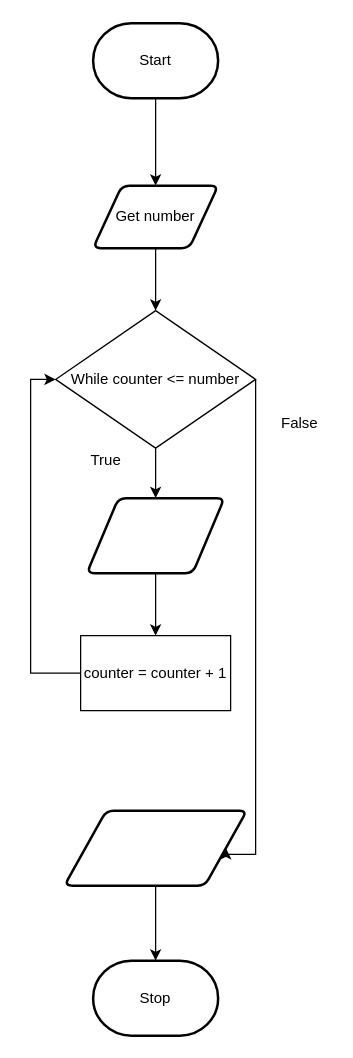
The diagram is 353 pixels wide and 1058 high, and some of its shapes have lost their labels. The box of each missing label's shape, as (x1, y1, x2, y2) in pixels:
print("The sum is {0}").format(sum): (62, 809, 248, 886)
sum = sum + counter: (85, 496, 225, 574)
